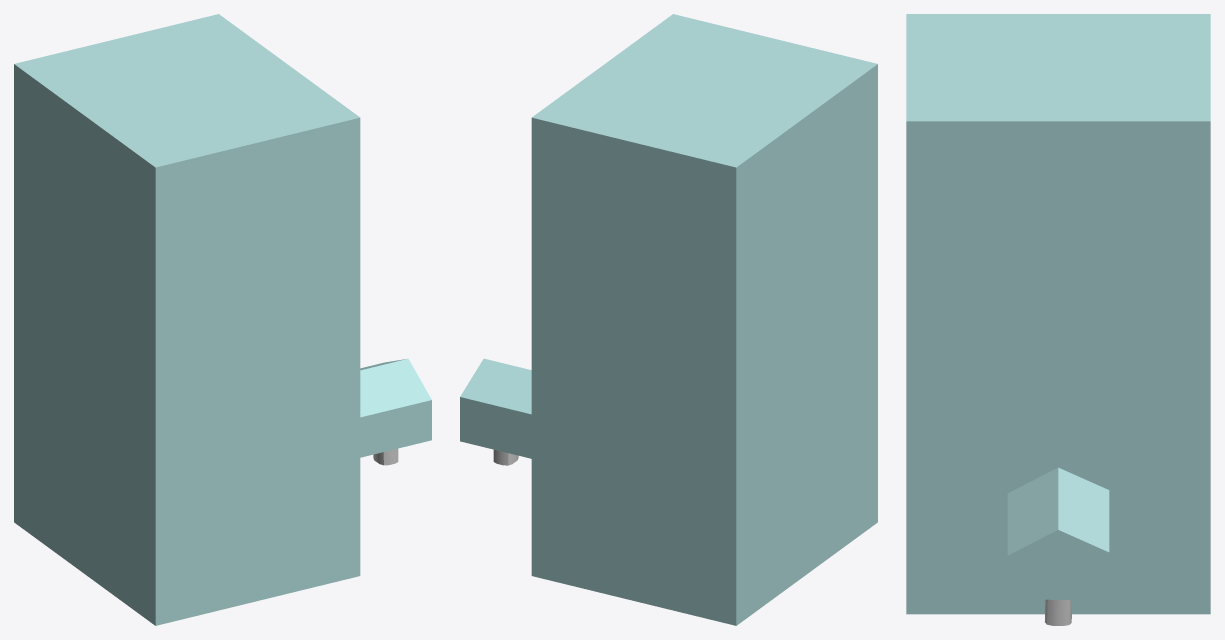
File: Soap_dispenser.fbx
3 views of the same model, side by side, from view 1: azimuth 30°, elevation 25°; view 2: azimuth 150°, elevation 25°; view 3: azimuth 270°, elevation 25° (orthographic). The views are drawn at different scales.
Visible parts, largest first — view 1: pCube1; view 2: pCube1; view 3: pCube1.
Boxes of the visible parts, x1,y1,x2,y2 form: pCube1: (14,14,431,625); pCube1: (460,14,877,625); pCube1: (906,14,1210,625).
Size of the model in its own units: 9.28 by 12.57 by 7.03.
1 material, 1 textured.
